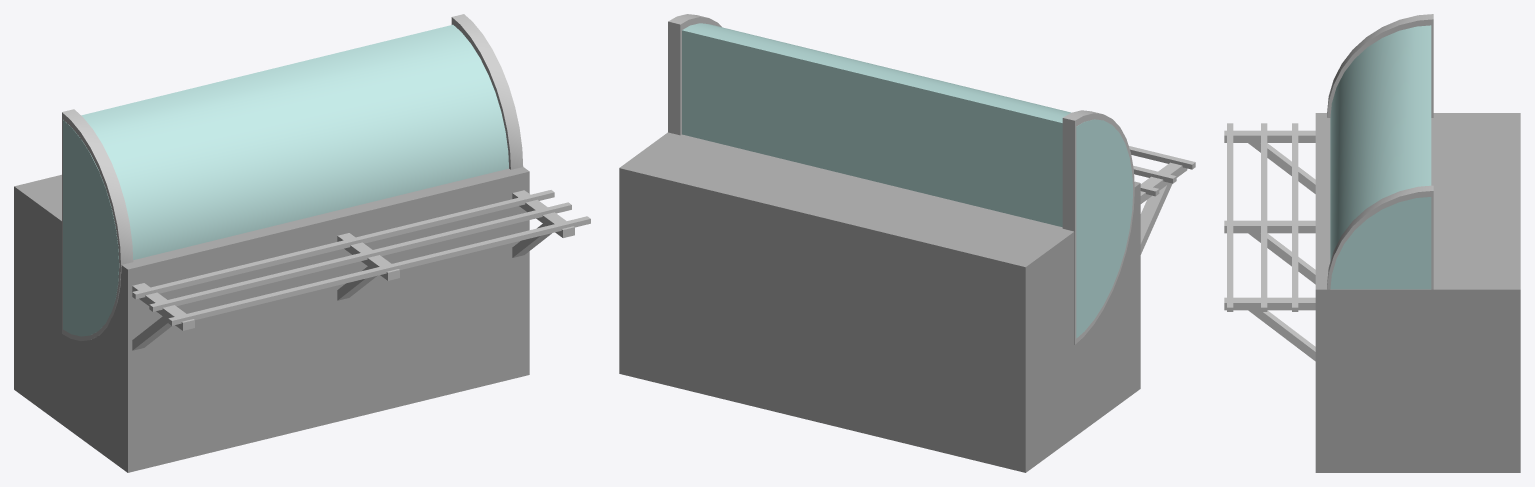
Rendered from showcase.fbx.
3 renders of one model, left to right at view 1: azimuth 30°, elevation 25°; view 2: azimuth 150°, elevation 25°; view 3: azimuth 270°, elevation 25°, orthographic. The views are drawn at different scales.
Parts seen in each view (by area): view 1: Null_4; view 2: Null_4; view 3: Null_4.
Part boxes in pixels (x1,y1,x2,y2): Null_4: (14, 14, 590, 472); Null_4: (619, 14, 1195, 472); Null_4: (1224, 14, 1520, 472).
Size of the model in its own units: 208 by 149 by 142.
